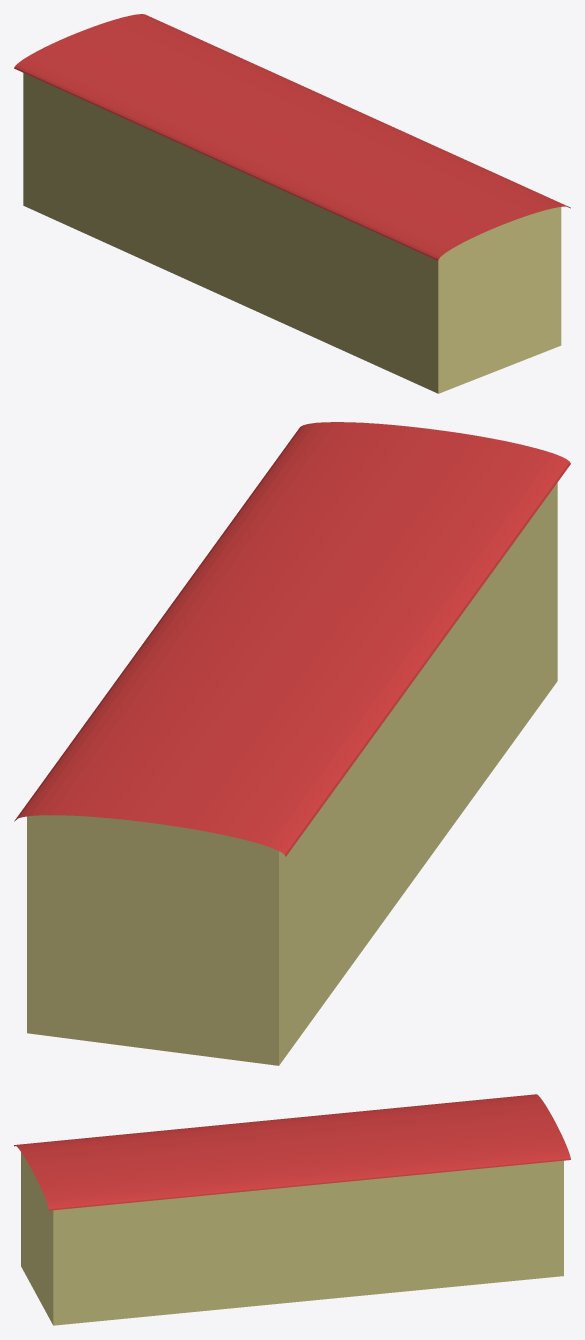
The picture shows the model from 3 angles, top to bottom: view 1: azimuth 30°, elevation 25°; view 2: azimuth 150°, elevation 25°; view 3: azimuth 270°, elevation 25°; orthographic projection. The views are drawn at different scales.
Bounding box in the file's own units: 11.83 × 24.18 × 6.09.
